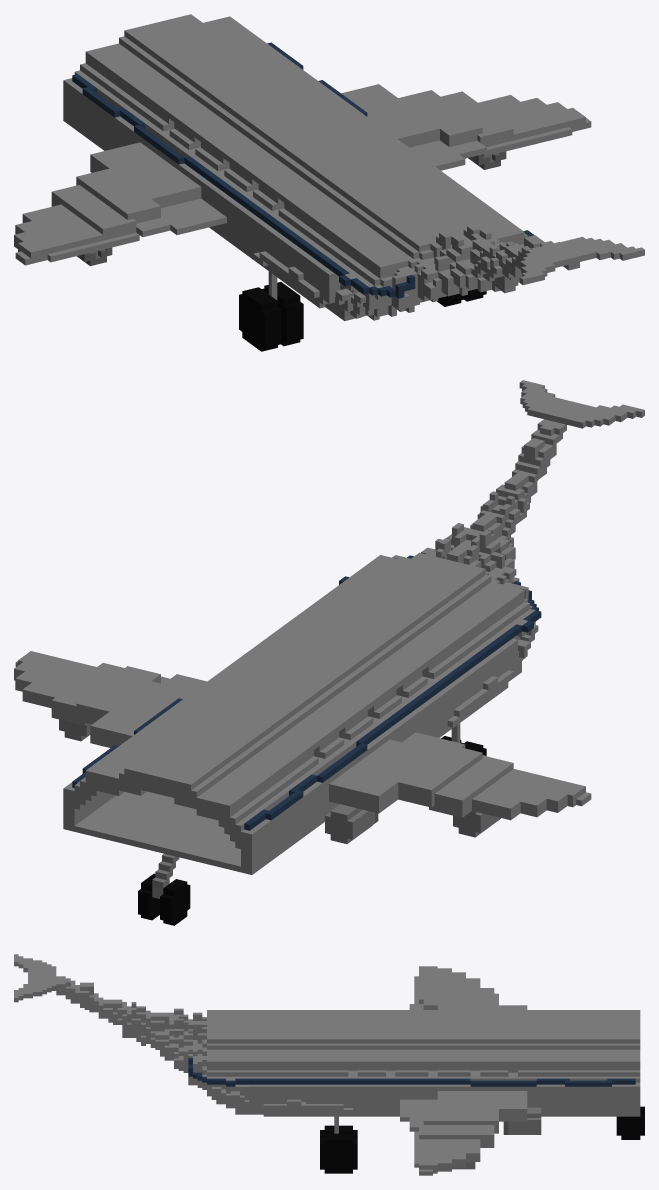
The model's file is airplane.obj.
3 renders of one model, top to bottom at view 1: azimuth 30°, elevation 25°; view 2: azimuth 150°, elevation 25°; view 3: azimuth 270°, elevation 25°, orthographic. The views are drawn at different scales.
Bounding box in the file's own units: 10.2 × 3.7 × 13.4.
